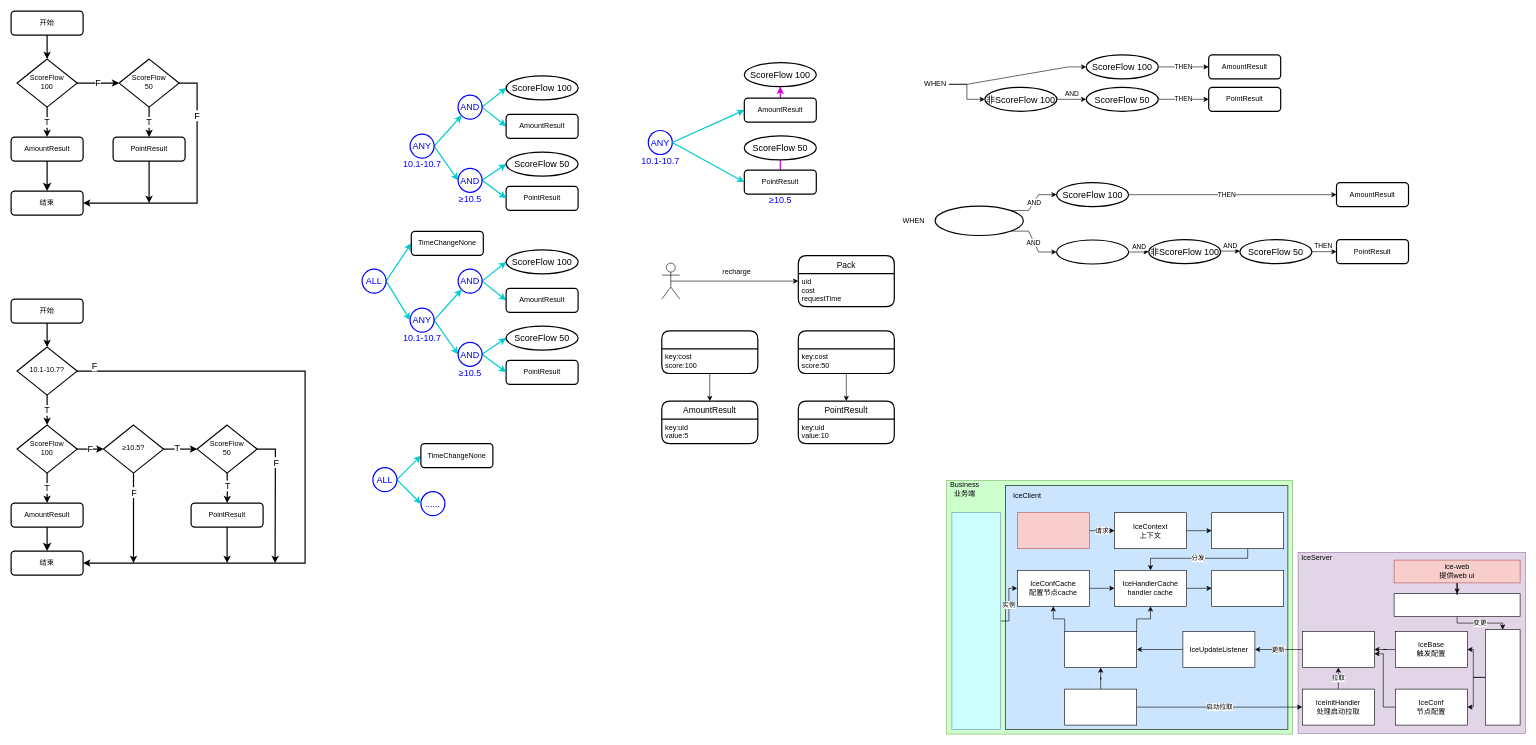
Some shapes in this 1536 by 745 pixel diagram are drawn without their labels. The box of each missing label's shape, as (x1, y1, x2, y2) in pixels:
BusinessClass 业务类: (951, 512, 1000, 729)
IceClientInitService 启动拉取配置: (1064, 688, 1137, 725)
IceDispatcher 分发器: (1211, 512, 1284, 549)
IceEditController 提供变更api: (1394, 593, 1520, 616)
IceHandler 执行配置节点: (1211, 570, 1284, 606)
IcePack 入参: (1017, 512, 1089, 549)
IceServerServiceImpl server配置管理: (1302, 631, 1374, 668)
IceUpdate 更新: (1064, 631, 1137, 668)
mysql 配置存储: (1485, 629, 1520, 725)
ScoreFlow-100: (661, 330, 758, 374)
ScoreFlow-50: (797, 330, 895, 374)
TimeFlow(10.1-10.7): (934, 205, 1024, 236)
TimeFlow(≥10.5): (1056, 239, 1129, 264)
user: (661, 262, 680, 299)
